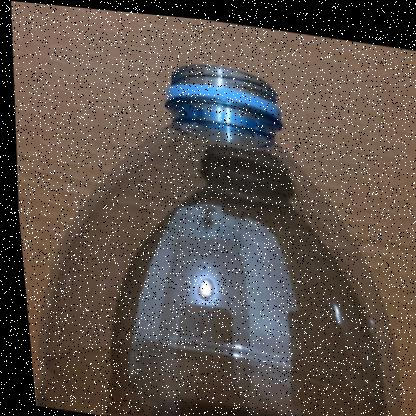open bottle: (45, 4, 416, 350)
